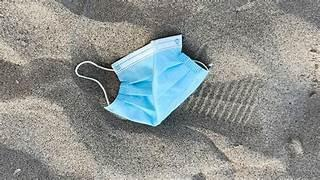Mask: (75, 35, 207, 125)
